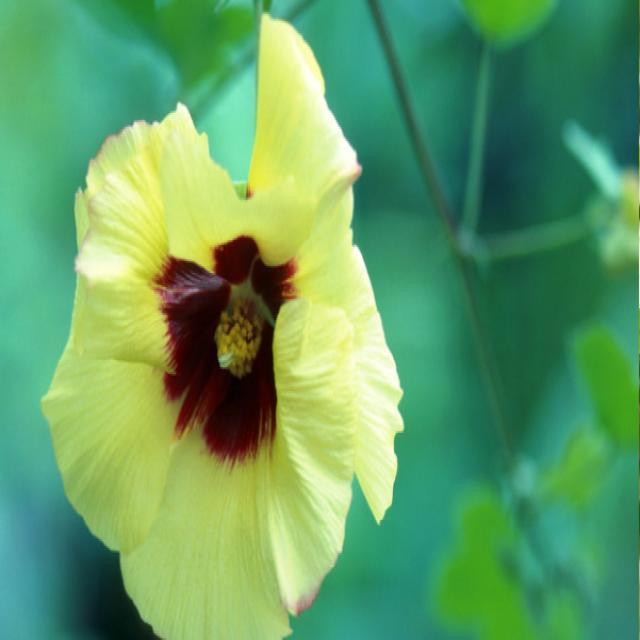Cotton Blossom: (41, 10, 406, 640)
